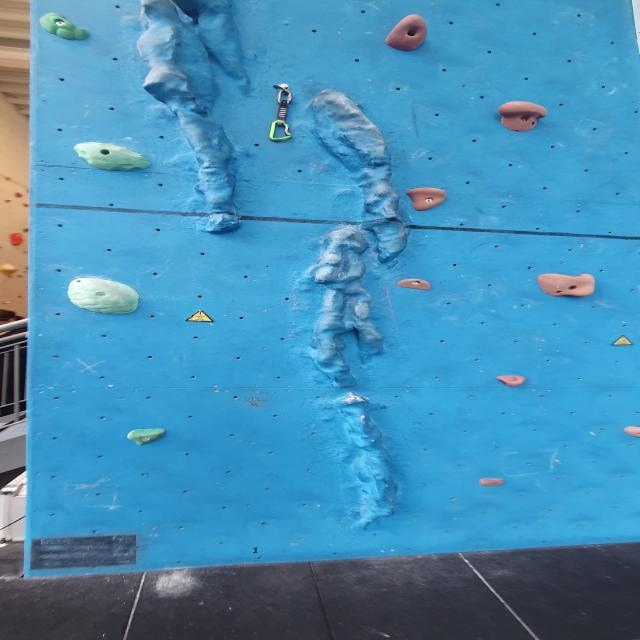Crimp: (34, 13, 99, 46), (394, 276, 434, 293), (130, 427, 164, 445), (493, 374, 528, 388), (476, 477, 509, 490)
Jug: (382, 14, 428, 54), (534, 272, 598, 300), (498, 100, 552, 133), (406, 188, 450, 214), (621, 423, 640, 440)
Sloper: (66, 276, 144, 316), (72, 141, 155, 174)
